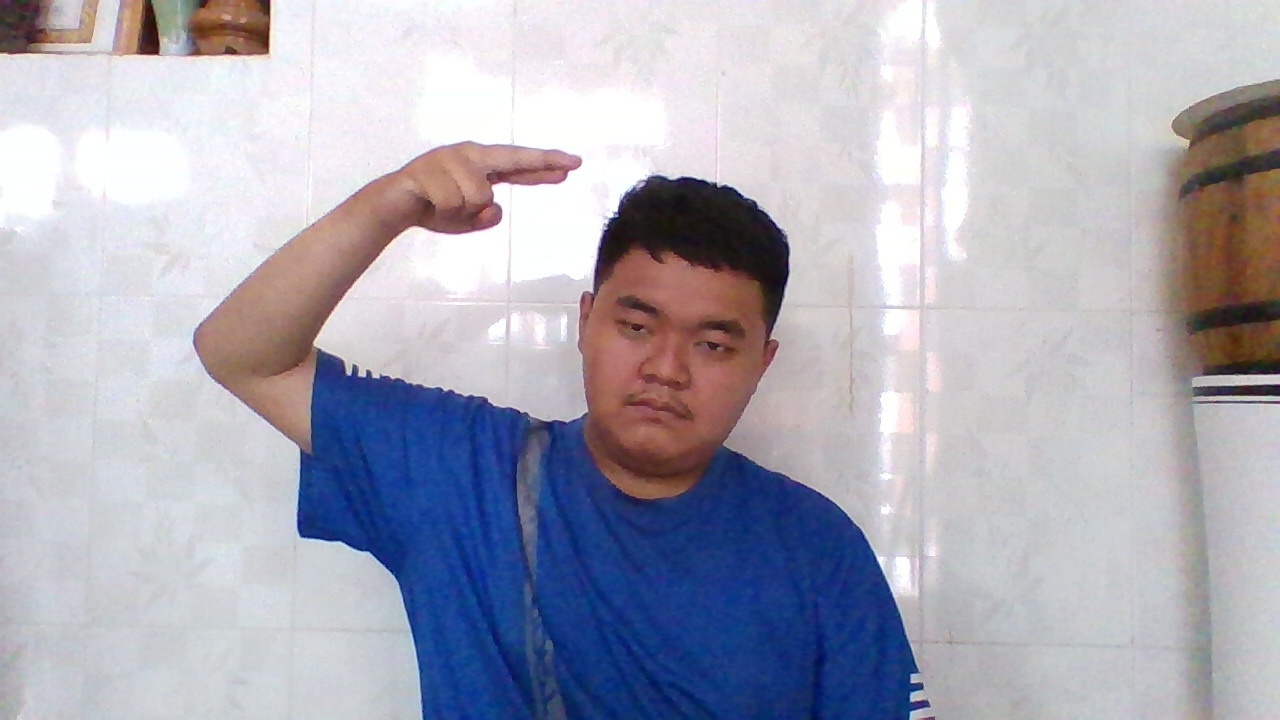R: (370, 138, 586, 239)
